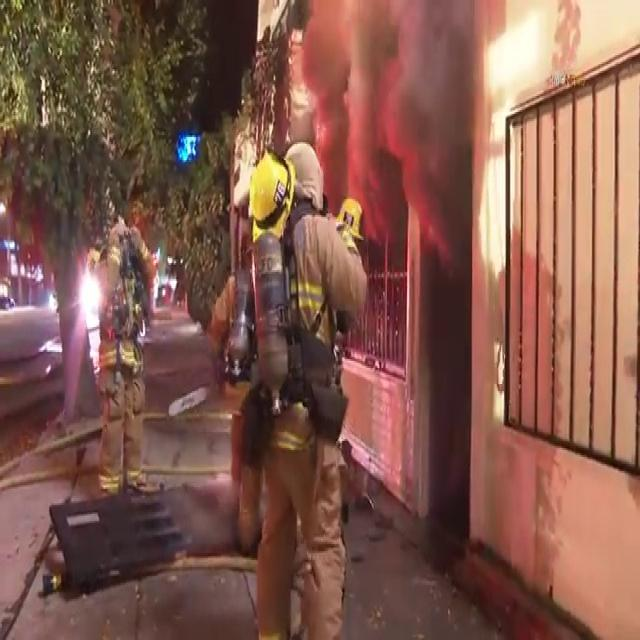Smoke: (304, 0, 476, 233)
